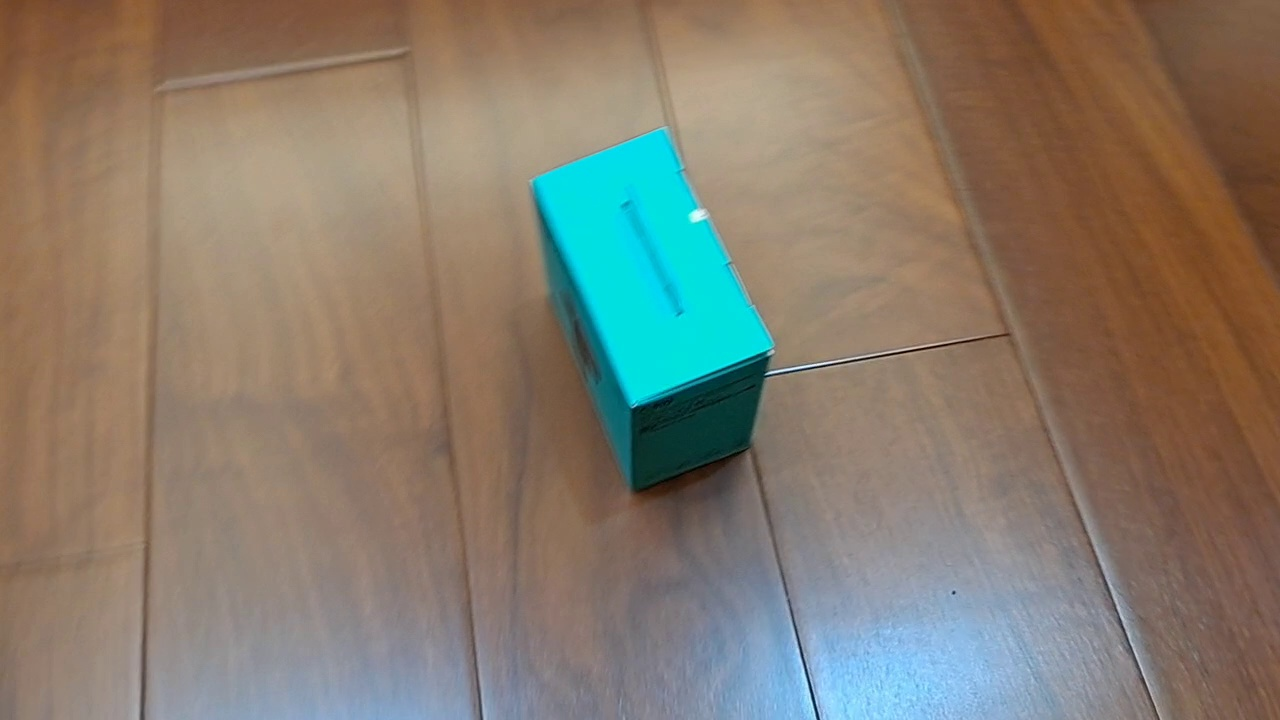webcam: (526, 124, 776, 493)
